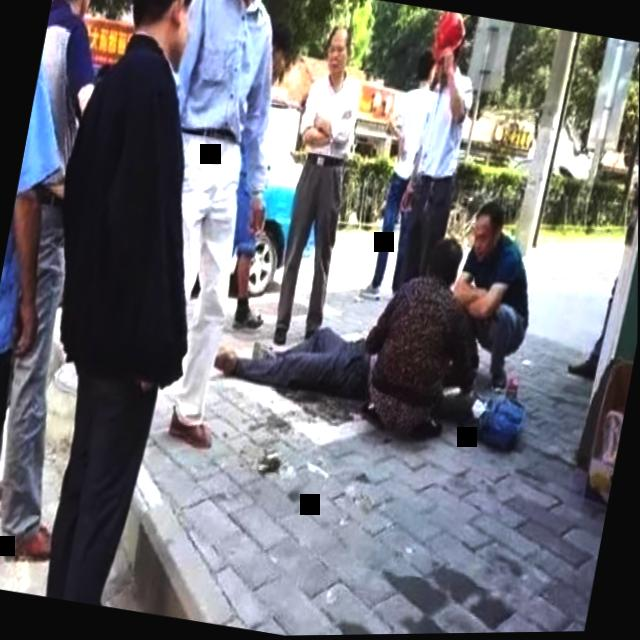Fall-Detected: (210, 280, 398, 416)
